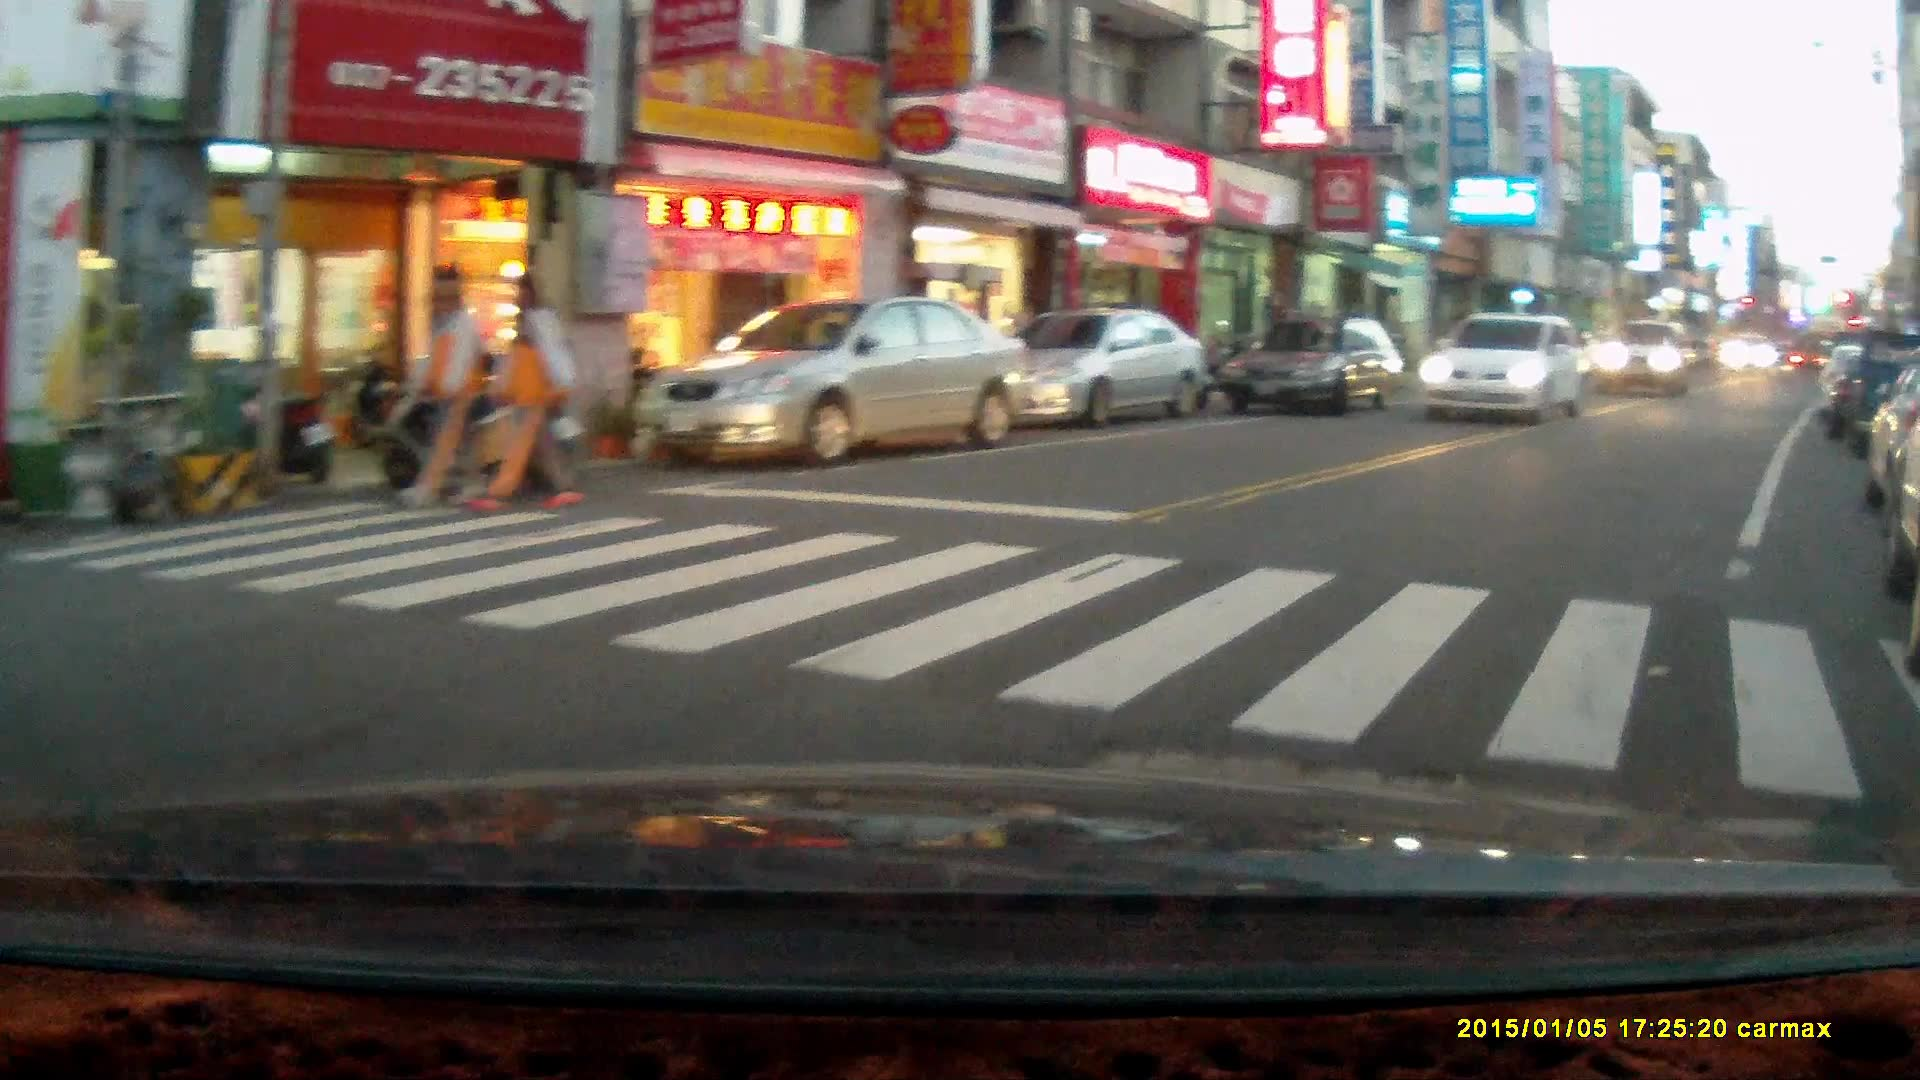pedestrian: (481, 269, 581, 517), (395, 261, 491, 507)
vehicle: (634, 298, 1027, 463), (972, 309, 1209, 426), (1415, 311, 1586, 425), (1219, 318, 1406, 414), (1589, 316, 1703, 399), (1721, 333, 1783, 378)
